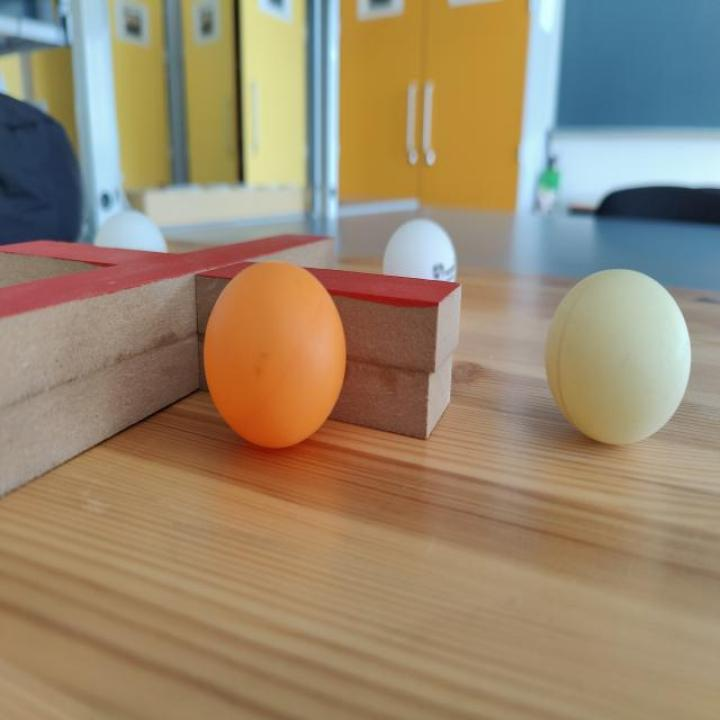orange: (202, 264, 348, 452)
white: (544, 269, 692, 450), (380, 218, 459, 287), (95, 210, 168, 253)
